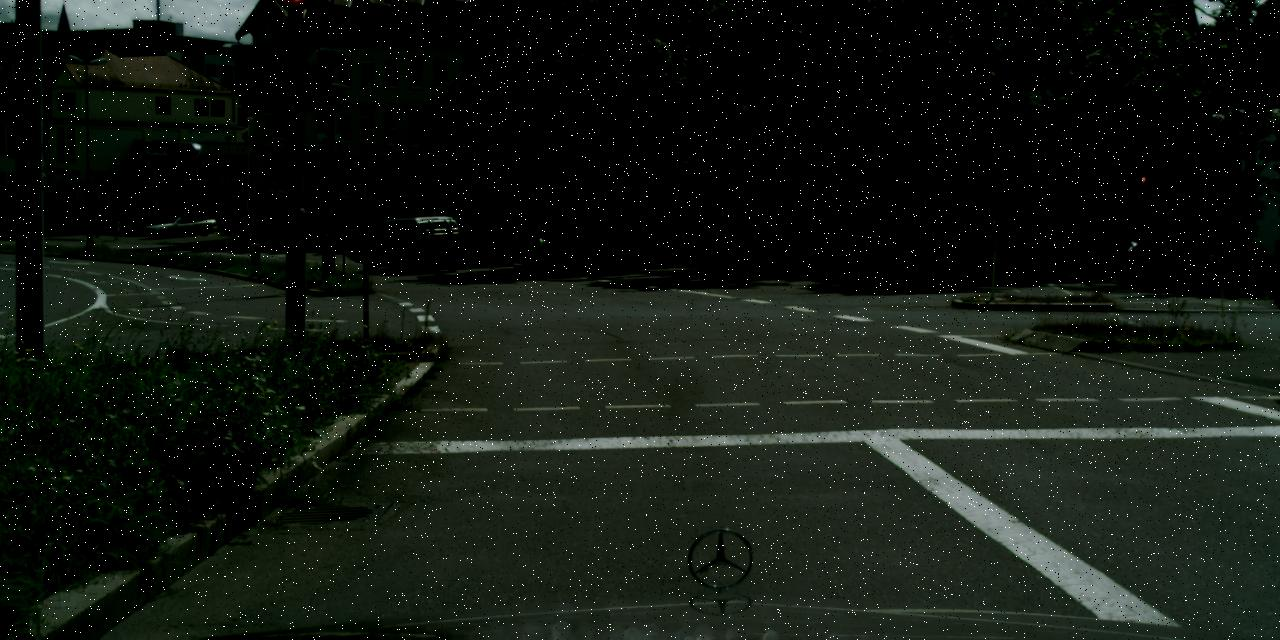ped: (601, 218, 620, 266), (620, 222, 637, 265), (110, 214, 121, 240), (44, 208, 54, 235), (91, 210, 101, 236)
